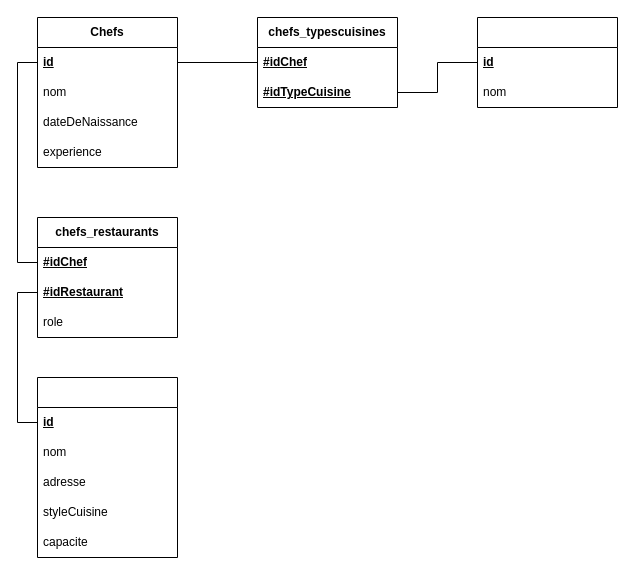
The diagram is 635 pixels wide and 575 high, and some of its shapes have lost their labels. Each missing label, with the box of its shape:
Restaurants: (36, 376, 178, 558)
TypesCuisine: (476, 16, 618, 108)
